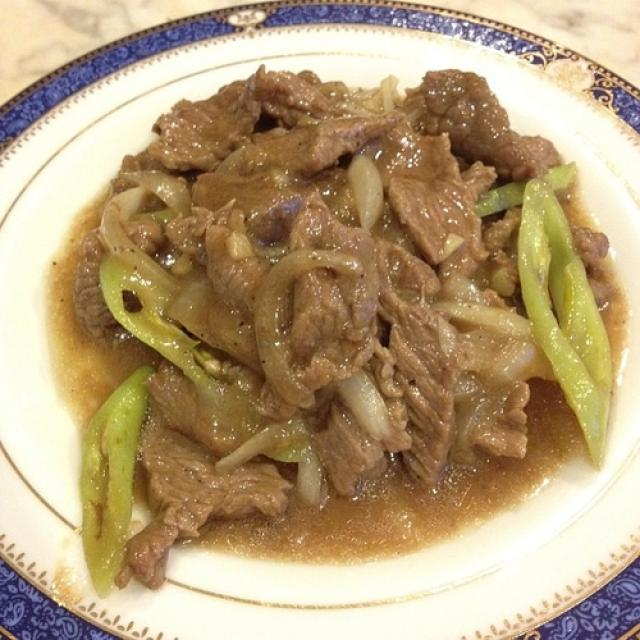牛肉菜式: (33, 32, 606, 613)
